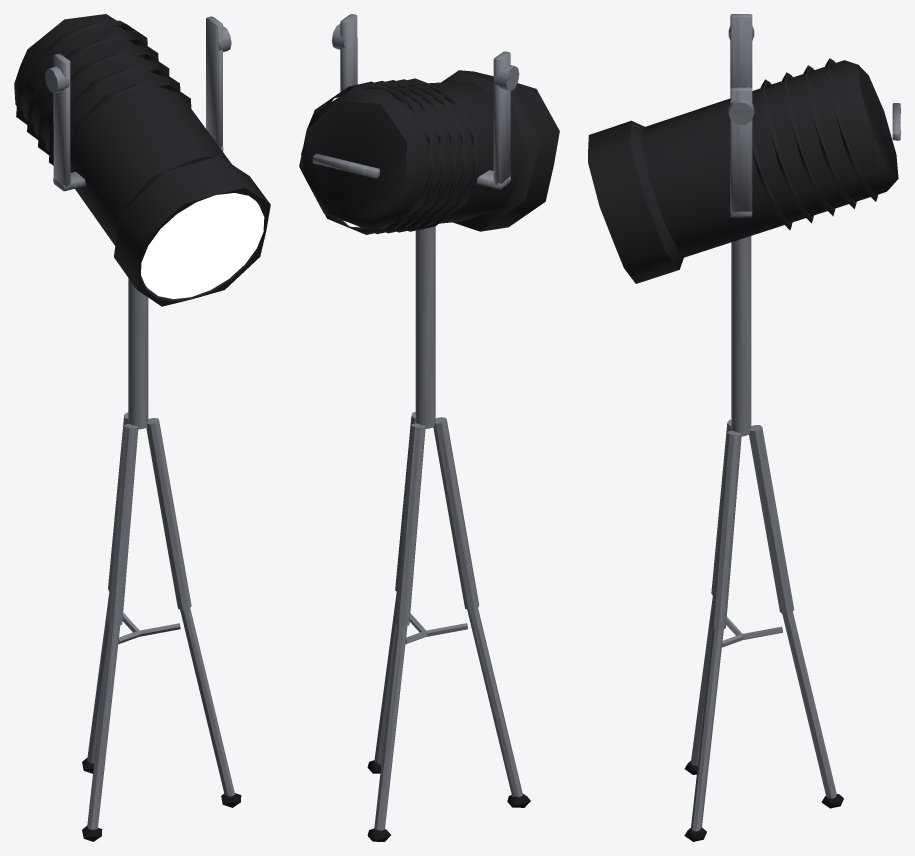
File: canhao-luz-leve.glb
The picture shows the model from 3 angles, left to right: view 1: azimuth 30°, elevation 25°; view 2: azimuth 150°, elevation 25°; view 3: azimuth 270°, elevation 25°; orthographic projection. The views are drawn at different scales.
Parts seen in each view (by area): view 1: corpo, lente, perna-cima.001, mastro, perna-cima.002, perna-baixo.001, perna-baixo.002, garfo.001, garfo, aleta, aleta.002, perna-baixo (+5 smaller); view 2: corpo, mastro, perna-cima, perna-cima.001, perna-baixo, perna-baixo.001, garfo, aleta, aleta.001, aleta.002, aleta.004, aleta.003 (+4 smaller); view 3: corpo, mastro, perna-cima.002, perna-cima, garfo.001, perna-baixo.002, perna-baixo, garfo, perna-baixo.001, aleta.001, aleta.003, aleta.002 (+2 smaller).
Boxes of the visible parts, box(x1,y1,x2,y2) form: corpo: box(14, 14, 270, 306); lente: box(141, 193, 264, 299); perna-cima.001: box(108, 424, 138, 625); mastro: box(128, 278, 148, 429); perna-cima.002: box(146, 418, 191, 609); perna-baixo.001: box(87, 624, 120, 829); perna-baixo.002: box(180, 607, 235, 796); garfo.001: box(206, 16, 222, 148); garfo: box(53, 53, 70, 186); aleta: box(16, 20, 147, 124); aleta.002: box(38, 50, 169, 154); perna-baixo: box(87, 591, 110, 763); corpo: box(299, 70, 559, 231); mastro: box(415, 226, 435, 428); perna-cima: box(395, 423, 425, 625); perna-cima.001: box(433, 417, 479, 609); perna-baixo: box(374, 625, 407, 830); perna-baixo.001: box(467, 608, 522, 797); garfo: box(493, 51, 510, 184); aleta: box(301, 81, 436, 234); aleta.001: box(353, 80, 447, 234); aleta.002: box(385, 80, 458, 233); aleta.004: box(407, 78, 480, 231); aleta.003: box(397, 79, 469, 232); corpo: box(588, 60, 898, 283); mastro: box(731, 236, 751, 436); perna-cima.002: box(711, 431, 741, 629); perna-cima: box(749, 425, 794, 613); garfo.001: box(730, 87, 752, 212); perna-baixo.002: box(691, 628, 723, 831); perna-baixo: box(782, 611, 836, 798); garfo: box(730, 14, 752, 88); perna-baixo.001: box(691, 596, 713, 765); aleta.001: box(803, 65, 856, 208); aleta.003: box(760, 79, 813, 223); aleta.002: box(782, 72, 835, 216).
Bounding box in the file's own units: 0.4328 × 1.82 × 0.6849.
4 materials, 2 textured.
